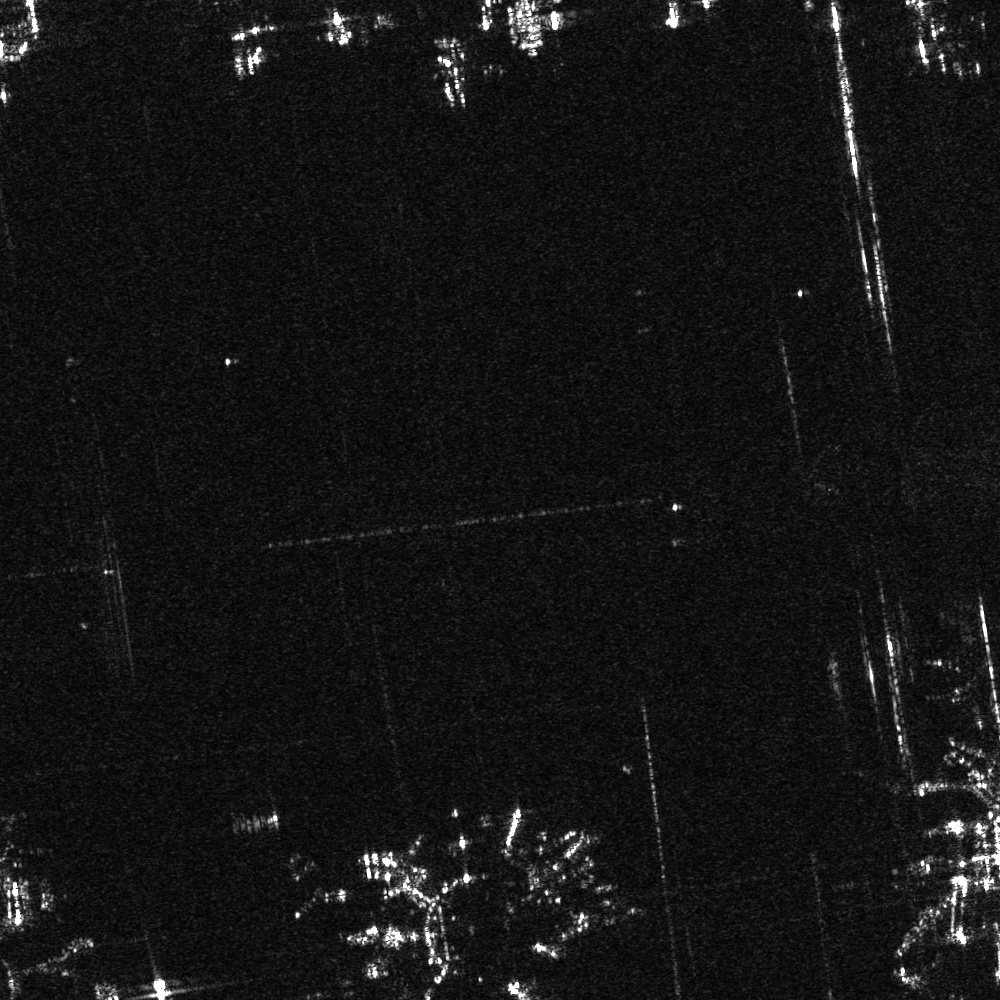A220: (303, 968, 362, 999)
Boeing787: (411, 31, 495, 109)
